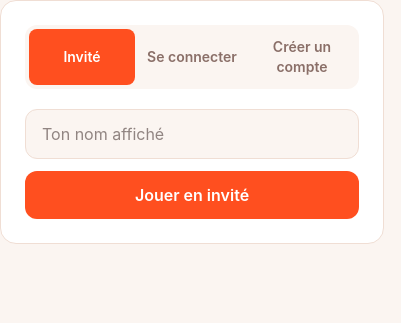
Test case: AuthPanel › bascule vers le formulaire de connexion
Click the button "Se connecter" at (192, 57), box [139, 29, 245, 85]
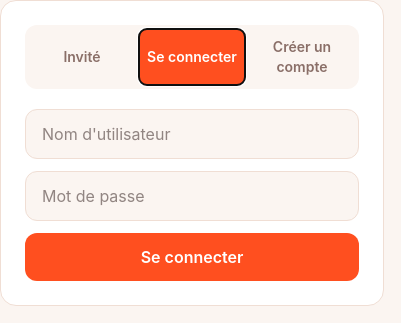
Expected: the field with placeholder "Nom d'utilisateur" is shown, [25, 109, 359, 159]
Expected: the password field with placeholder "Mot de passe" is shown, [25, 171, 359, 221]
